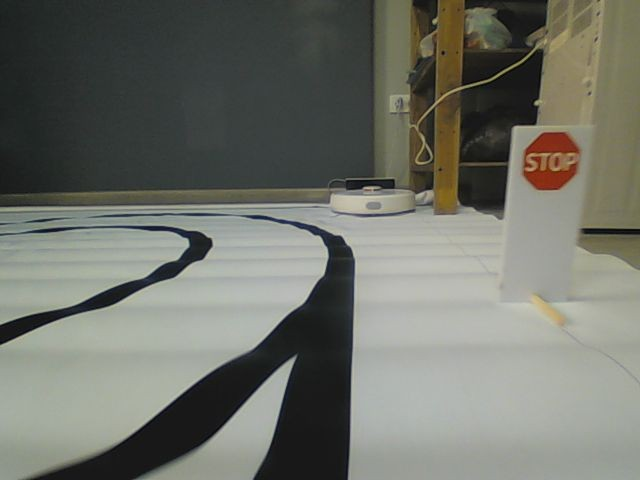Stop: (521, 132, 581, 191)
